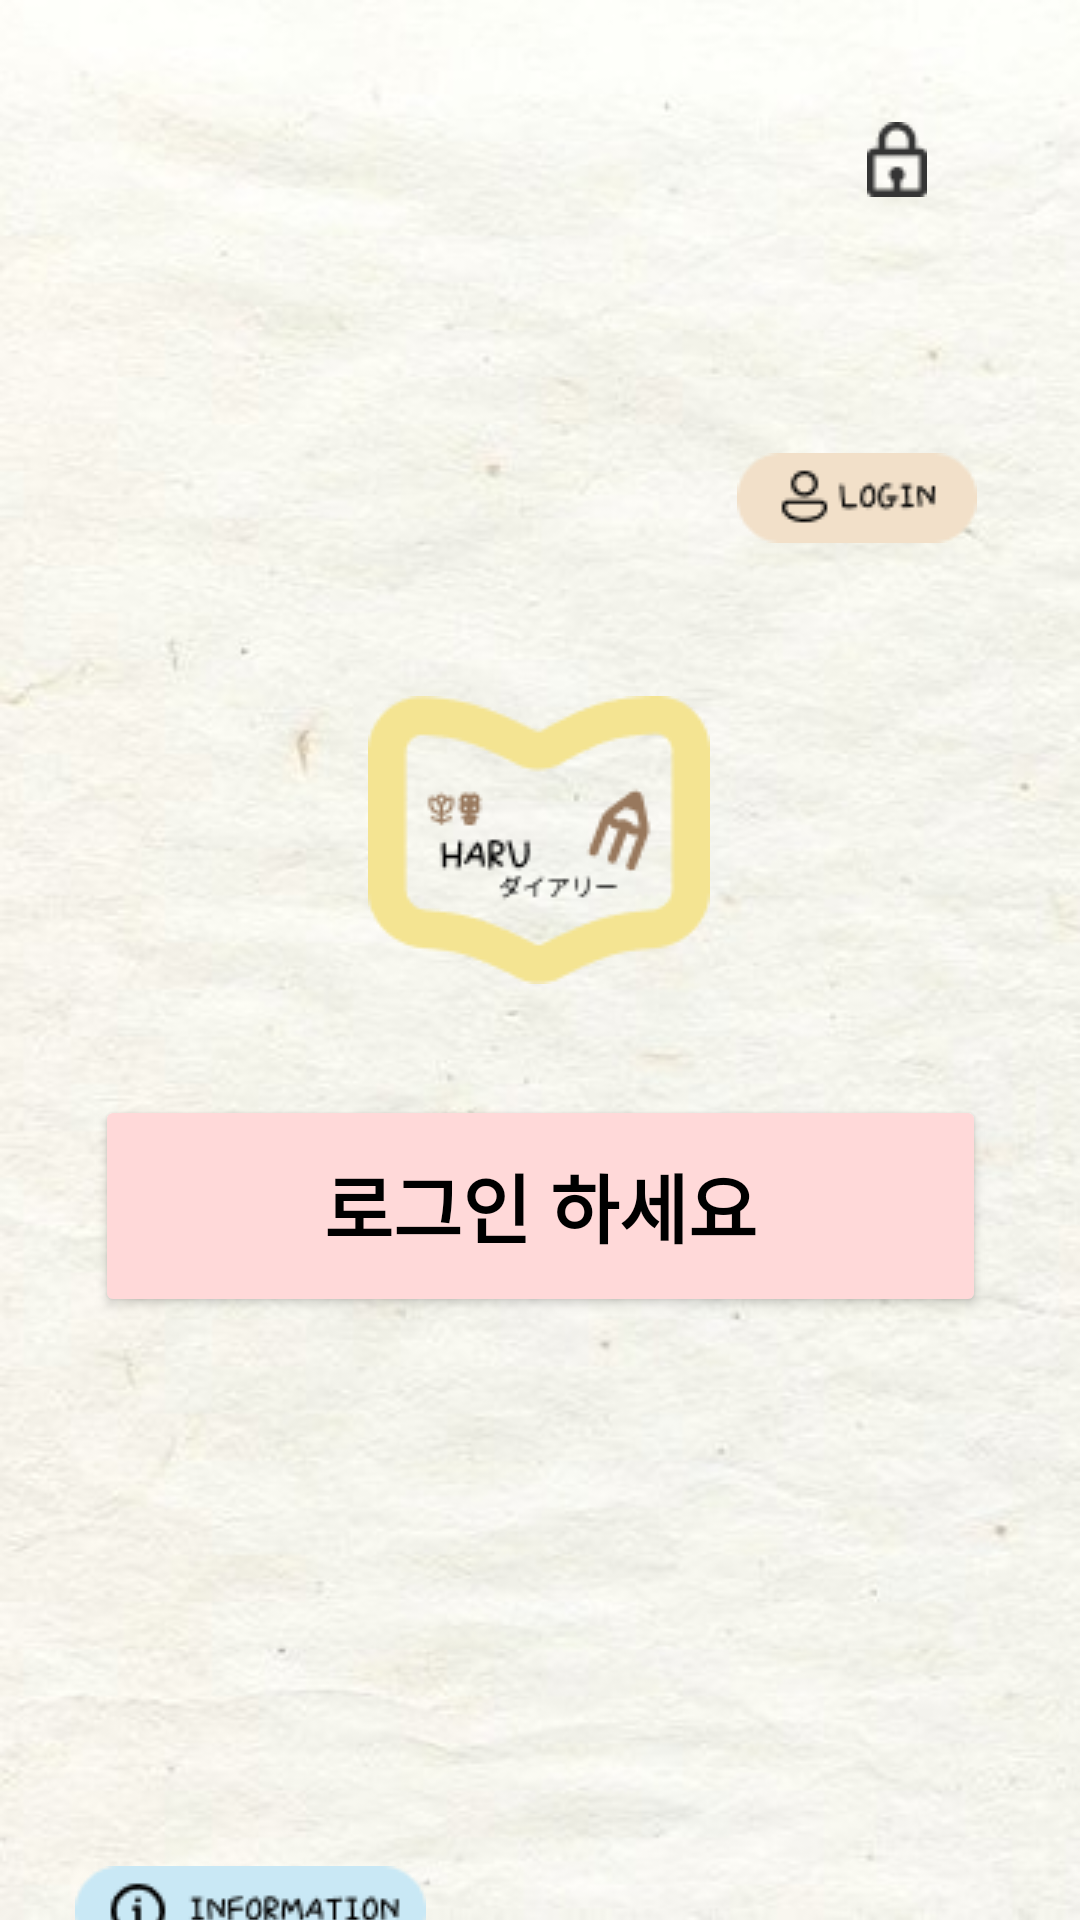

Named icons in this screenshot (1080 × 1920) and their centers, (x,y):
lock: (897,159)
